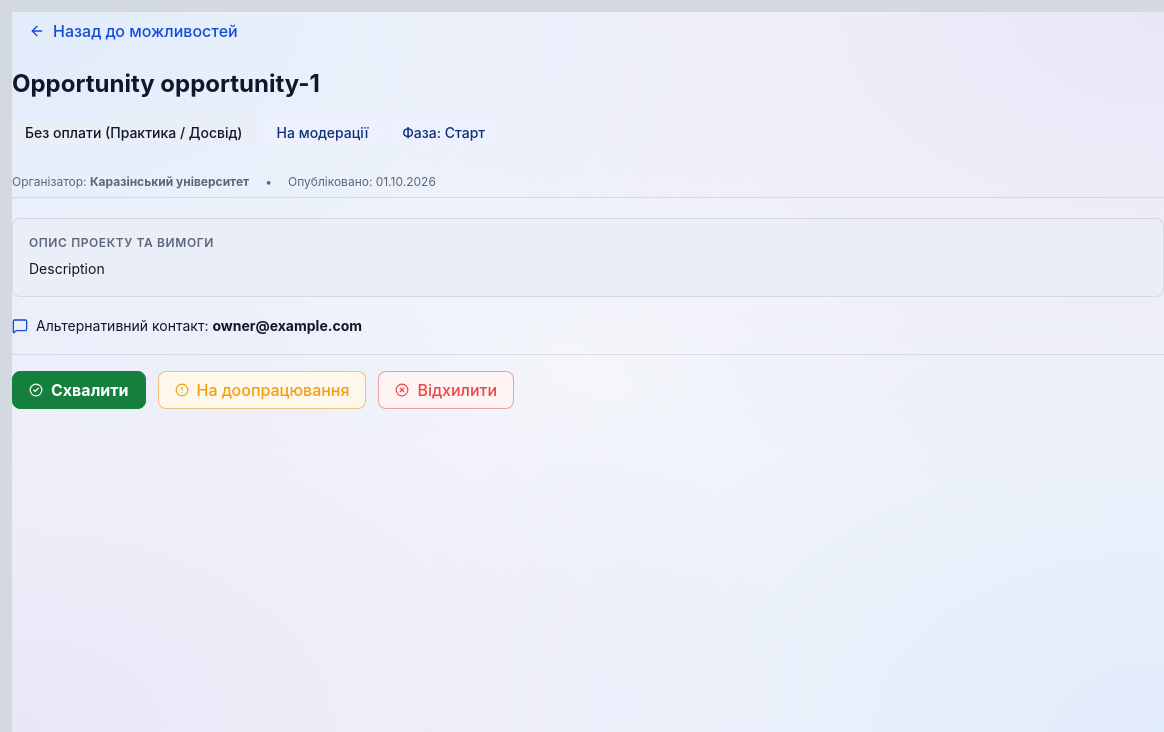
Test: opportunity detail moderation › should approve the notified opportunity directly from its details
What coordinates should you click on to do the following:
click the button "Схвалити"
I would click on:
 (79, 390)
Its box is [12,371,146,409].
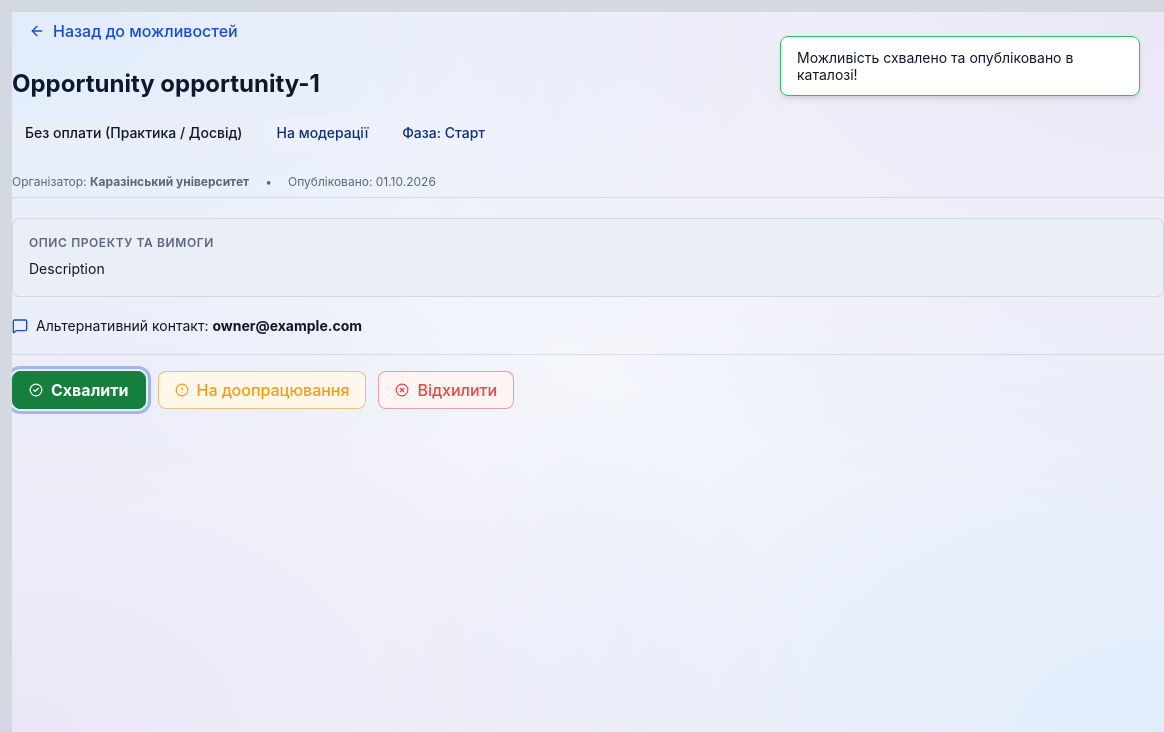
Expected: the text "Можливість схвалено та опубліковано в каталозі!" is shown, [780,36,1140,96]
